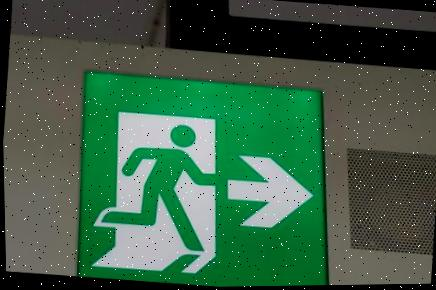emergency_exit: (76, 69, 329, 287)
